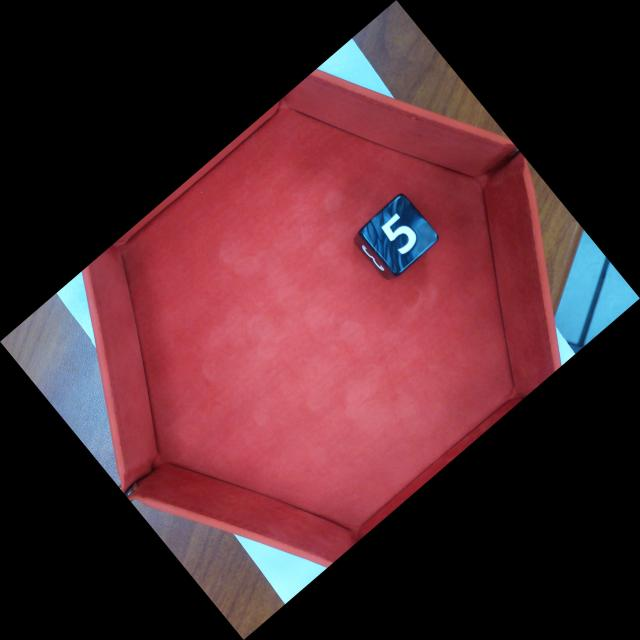dice: (363, 196, 437, 273)
